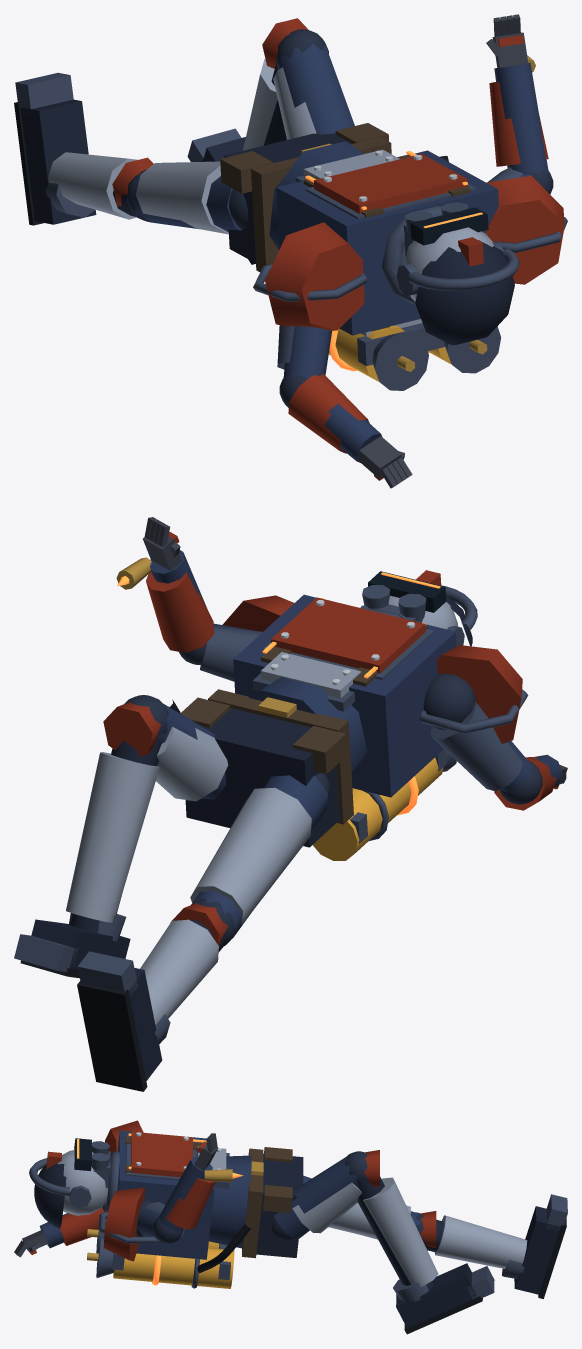
Rendered from hero_ember_downed.glb.
3 renders of one model, top to bottom at view 1: azimuth 30°, elevation 25°; view 2: azimuth 150°, elevation 25°; view 3: azimuth 270°, elevation 25°, orthographic. The views are drawn at different scales.
Visible parts, largest first — view 1: hero_ember_downed_chest, hero_ember_downed_pauldron-1, hero_ember_downed_hood, hero_ember_downed_pauldron1, hero_ember_downed_chest_plate_face, hero_ember_downed_boot_l, hero_ember_downed_thigh_plate_l, hero_ember_downed_thigh_r, hero_ember_downed_forearm_r, hero_ember_downed_greave_l, hero_ember_downed_belt, hero_ember_downed_bracer_l (+33 smaller); view 2: hero_ember_downed_chest, hero_ember_downed_greave_r, hero_ember_downed_pelvis, hero_ember_downed_thigh_plate_l, hero_ember_downed_chest_plate_face, hero_ember_downed_boot_sole_l, hero_ember_downed_greave_l, hero_ember_downed_pauldron-1, hero_ember_downed_thigh_plate_r, hero_ember_downed_bicep_plate_l, hero_ember_downed_bracer_r, hero_ember_downed_tank-1 (+25 smaller); view 3: hero_ember_downed_greave_r, hero_ember_downed_chest, hero_ember_downed_greave_l, hero_ember_downed_tank1, hero_ember_downed_abdomen, hero_ember_downed_boot_r, hero_ember_downed_chest_plate_face, hero_ember_downed_pelvis, hero_ember_downed_thigh_r, hero_ember_downed_boot_l, hero_ember_downed_pauldron1, hero_ember_downed_helmet (+36 smaller).
Boxes of the visible parts, x1,y1,x2,y2 form: hero_ember_downed_chest: (276,150,498,335); hero_ember_downed_pauldron-1: (265,222,364,330); hero_ember_downed_hood: (415,240,514,345); hero_ember_downed_pauldron1: (486,175,564,284); hero_ember_downed_chest_plate_face: (313,154,467,213); hero_ember_downed_boot_l: (20,99,96,224); hero_ember_downed_thigh_plate_l: (135,161,228,234); hero_ember_downed_thigh_r: (276,43,354,134); hero_ember_downed_forearm_r: (494,63,548,174); hero_ember_downed_greave_l: (48,152,137,219); hero_ember_downed_belt: (251,137,391,271); hero_ember_downed_bracer_l: (288,374,369,453); hero_ember_downed_chest: (233,594,456,797); hero_ember_downed_greave_r: (66,752,159,922); hero_ember_downed_pelvis: (185,708,339,847); hero_ember_downed_thigh_plate_l: (190,788,311,924); hero_ember_downed_chest_plate_face: (271,597,425,673); hero_ember_downed_boot_sole_l: (77,981,147,1091); hero_ember_downed_greave_l: (140,919,218,1025); hero_ember_downed_pauldron-1: (437,645,522,743); hero_ember_downed_thigh_plate_r: (156,727,228,801); hero_ember_downed_bicep_plate_l: (430,701,522,791); hero_ember_downed_bracer_r: (146,572,214,652); hero_ember_downed_tank-1: (313,757,443,860); hero_ember_downed_greave_r: (363,1177,438,1286); hero_ember_downed_chest: (117,1130,214,1259); hero_ember_downed_greave_l: (434,1215,527,1268); hero_ember_downed_tank1: (113,1247,234,1288); hero_ember_downed_abdomen: (209,1155,251,1248); hero_ember_downed_boot_r: (396,1263,477,1327); hero_ember_downed_chest_plate_face: (131,1131,192,1177); hero_ember_downed_pelvis: (256,1153,303,1257); hero_ember_downed_thigh_r: (274,1157,358,1238); hero_ember_downed_boot_l: (514,1206,560,1294); hero_ember_downed_pauldron1: (103,1187,144,1261); hero_ember_downed_helmet: (57,1150,108,1215).
Bounding box in the file's own units: 0.913 × 0.8827 × 1.97.
